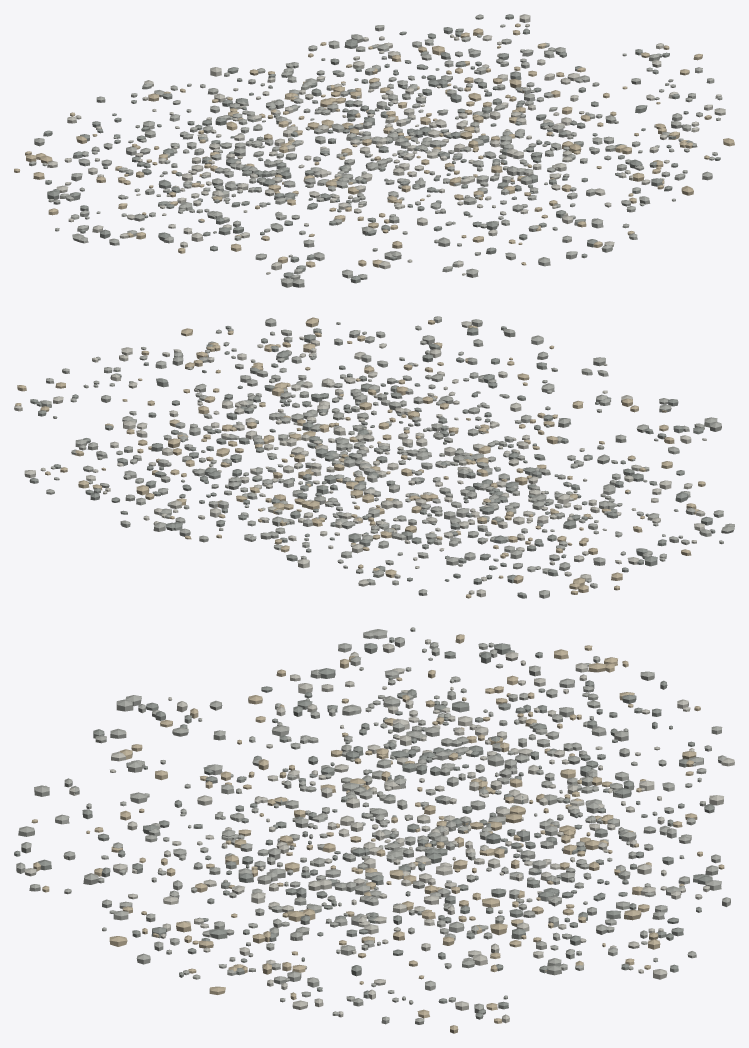
Rendered from Stone_Field_Large_Organic_8x6m.fbx.
3 renders of one model, top to bottom at view 1: azimuth 30°, elevation 25°; view 2: azimuth 150°, elevation 25°; view 3: azimuth 270°, elevation 25°, orthographic. The views are drawn at different scales.
Parts seen in each view (by area): view 1: Stone_Field_Large_Organic_8x6m; view 2: Stone_Field_Large_Organic_8x6m; view 3: Stone_Field_Large_Organic_8x6m.
Boxes of the visible parts, x1,y1,x2,y2 form: Stone_Field_Large_Organic_8x6m: [14, 14, 734, 287]; Stone_Field_Large_Organic_8x6m: [14, 316, 734, 598]; Stone_Field_Large_Organic_8x6m: [14, 627, 734, 1033].
Bounding box in the file's own units: 755 × 9.2 × 569.
